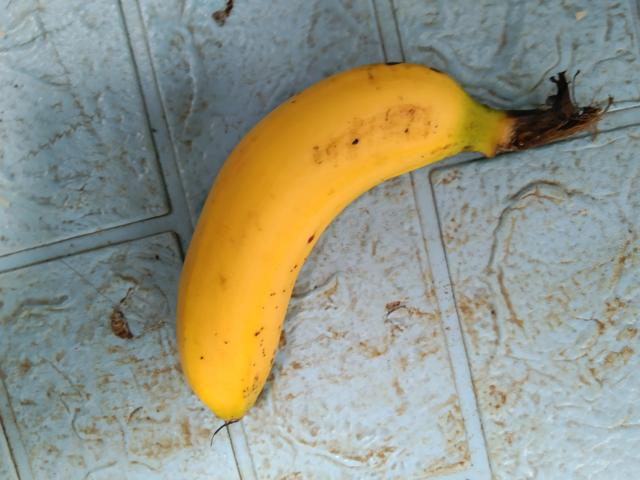freshripe: (164, 54, 473, 411)
